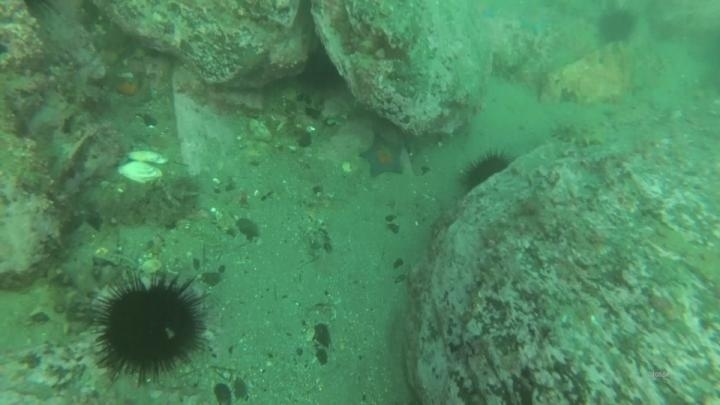echinus: (89, 272, 209, 383), (456, 148, 514, 196), (593, 6, 640, 48)
holothurian: (547, 118, 615, 150)
starfish: (357, 131, 408, 180), (515, 9, 556, 38)
